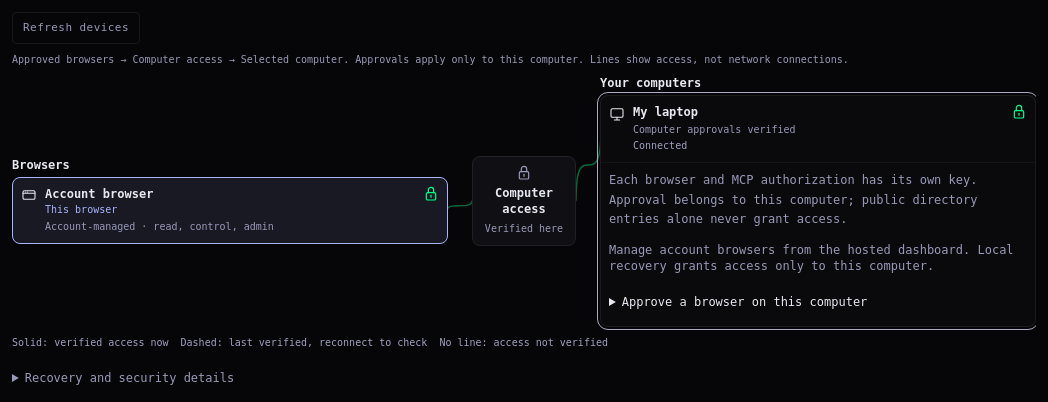
Computer-scoped access map › keeps account-source grants non-revocable and does not offer prohibited browser invitations
Expected: the text "Manage account browsers from the hosted dashboard" is shown, [609,242,1014,272]
Click the button with aria-label "Browser Account browser": (99, 194) [13,178,447,243]
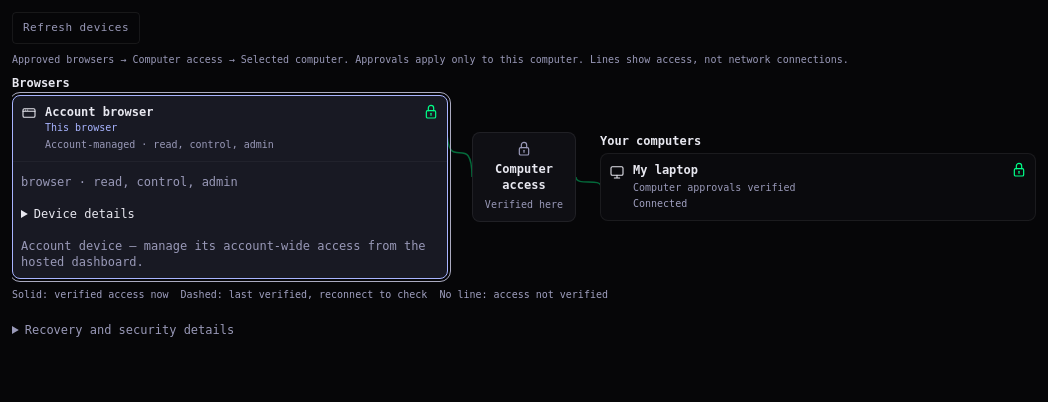
Expected: the text "manage its account-wide access from the hosted dashboard" is shown, [21,239,426,269]
